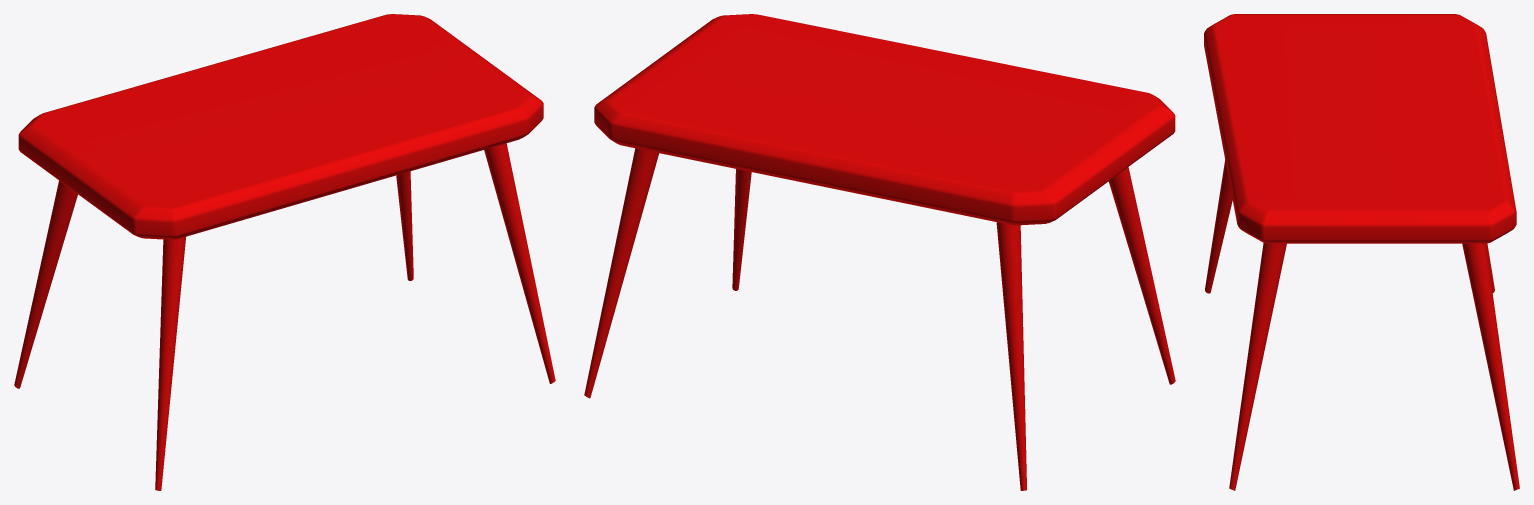
The model's file is Table_msh.fbx.
3 renders of one model, left to right at view 1: azimuth 30°, elevation 25°; view 2: azimuth 150°, elevation 25°; view 3: azimuth 270°, elevation 25°, orthographic. The views are drawn at different scales.
Parts seen in each view (by area): view 1: TableA_msh; view 2: TableA_msh; view 3: TableA_msh.
Part boxes in pixels (x1,y1,x2,y2): TableA_msh: (14, 14, 555, 490); TableA_msh: (584, 14, 1175, 490); TableA_msh: (1204, 14, 1519, 490).
Size of the model in its own units: 199 by 123 by 127.
